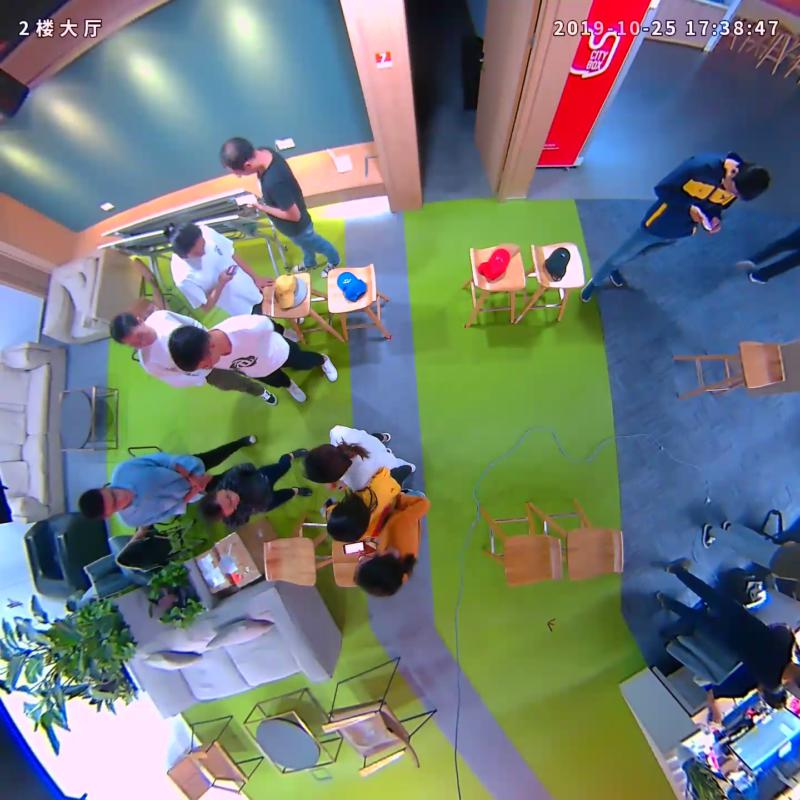head: (169, 324, 221, 373), (354, 550, 402, 596), (303, 443, 349, 485), (327, 495, 368, 541), (723, 161, 769, 201), (78, 487, 133, 519), (110, 313, 156, 350), (220, 136, 259, 177), (167, 221, 206, 259), (199, 487, 240, 521)
